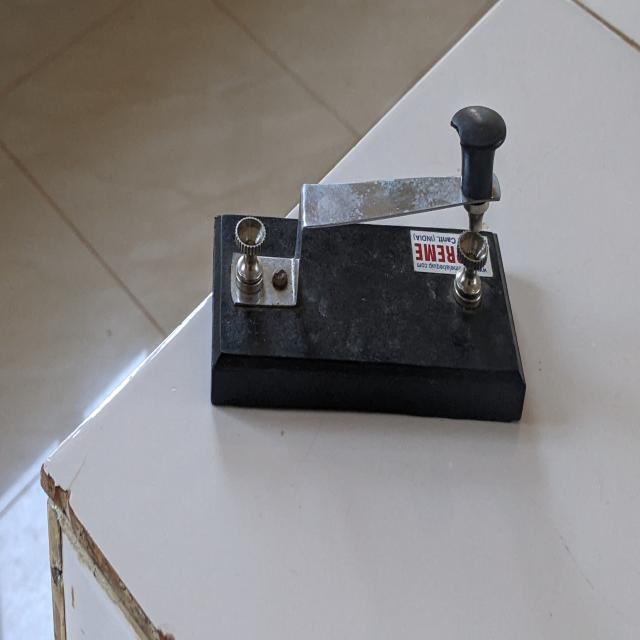Press Key: (199, 92, 539, 456)
